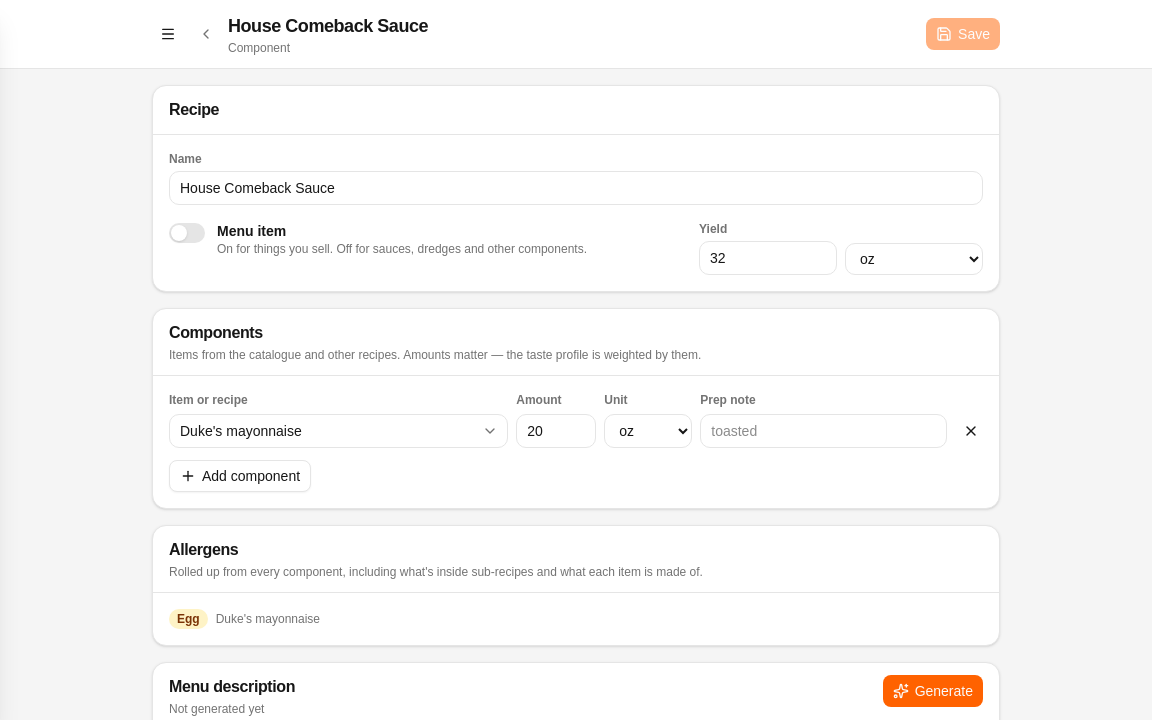
RecipeBuilder › groups items and recipes, and never offers a recipe that would loop
Focus the dropdown named "Component 1": {"x": 339, "y": 431} [169, 414, 508, 448]
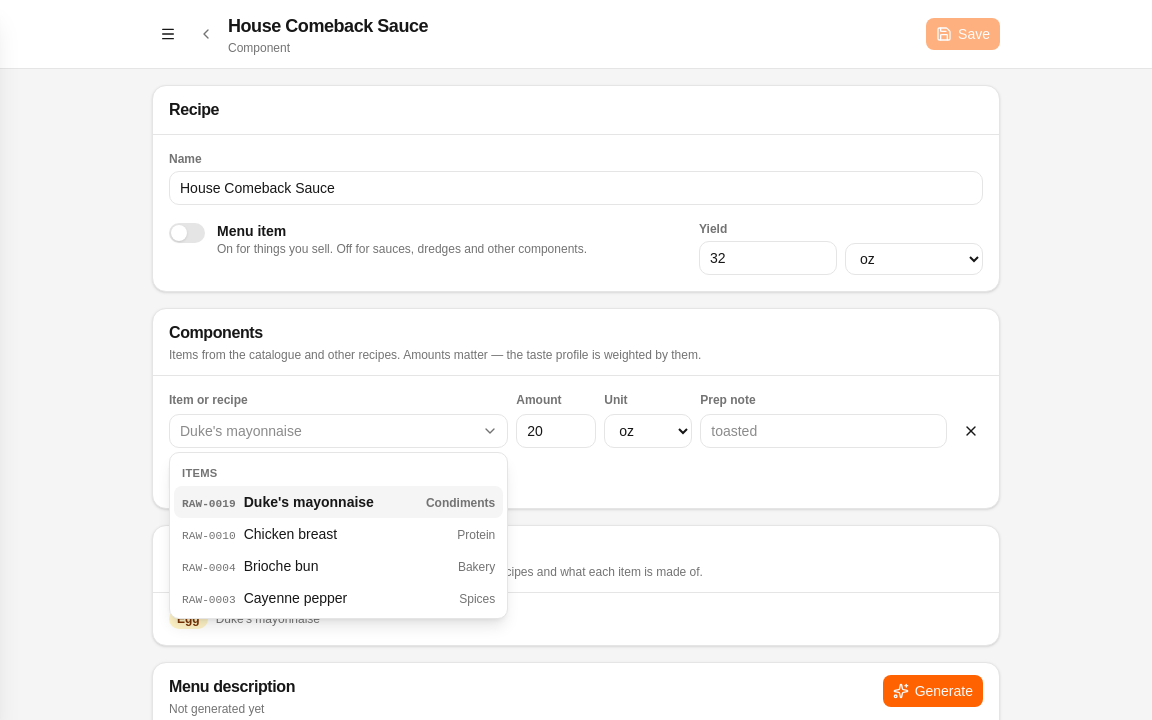
Expected: the number of options is 4, [174, 486, 503, 518]; [182, 526, 495, 542]; [182, 558, 495, 574]; [182, 590, 495, 606]
